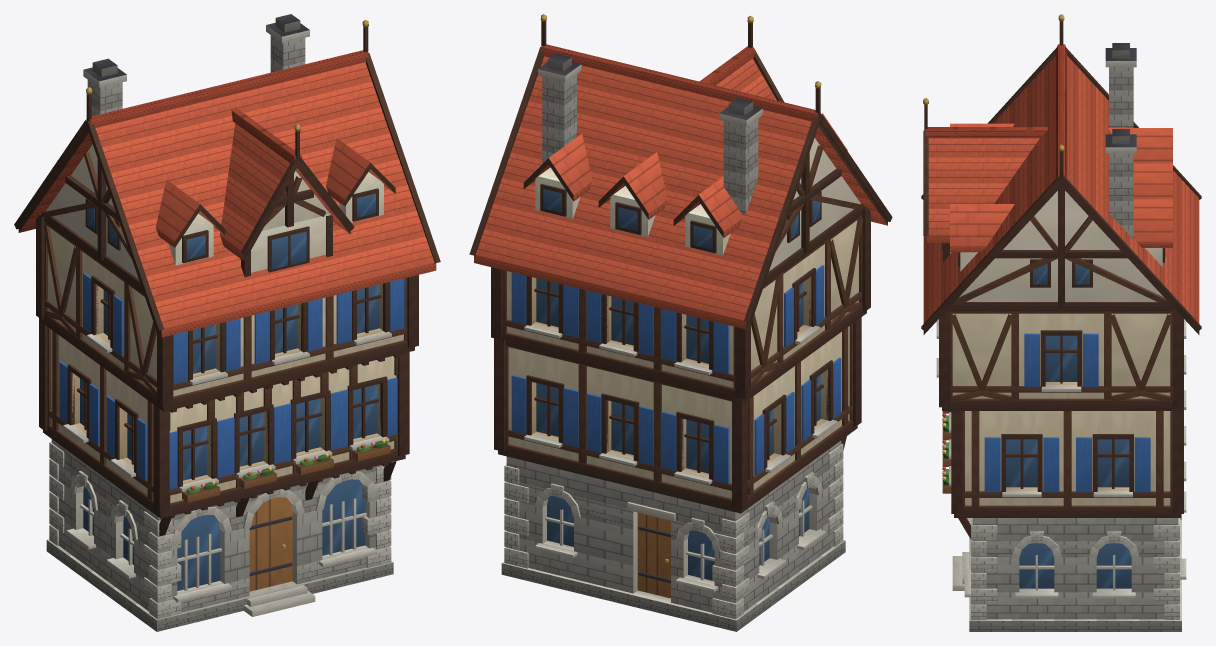
The model's file is bld_house_b.glb.
3 renders of one model, left to right at view 1: azimuth 30°, elevation 25°; view 2: azimuth 150°, elevation 25°; view 3: azimuth 270°, elevation 25°, orthographic. The views are drawn at different scales.
Parts seen in each view (by area): view 1: bld_house_b; view 2: bld_house_b; view 3: bld_house_b.
Boxes of the visible parts, x1,y1,x2,y2 form: bld_house_b: (14,14,440,631); bld_house_b: (469,14,892,631); bld_house_b: (921,14,1201,631).
Bounding box in the file's own units: 8.95 × 15.6 × 7.97.
1 material, 1 textured.
